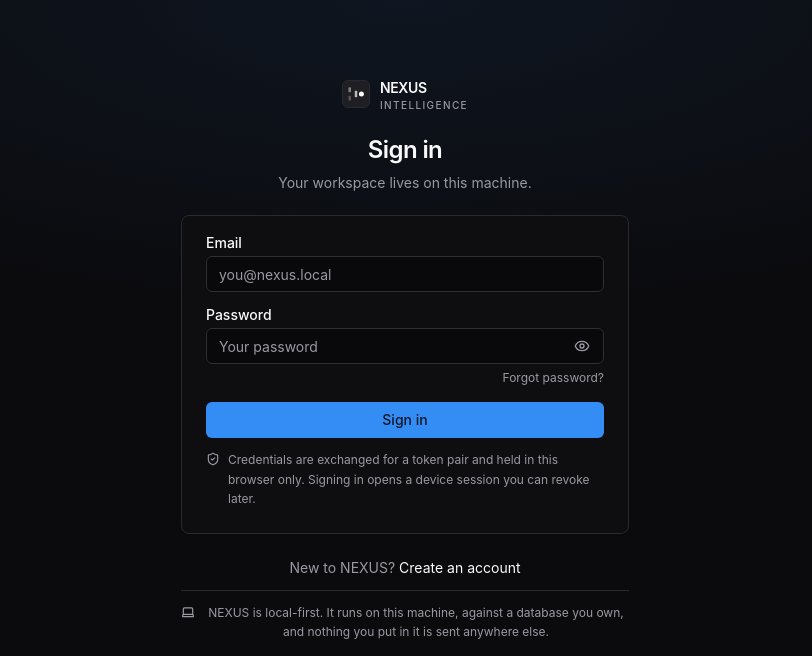
Scenario: LoginPage › disables and announces the submit while the request is in flight
Expected: the button "Sign in" is enabled, [206, 402, 604, 438]
Type "ada@nexus.local" into the field labelled "Email" at [405, 274], box [206, 256, 604, 292]
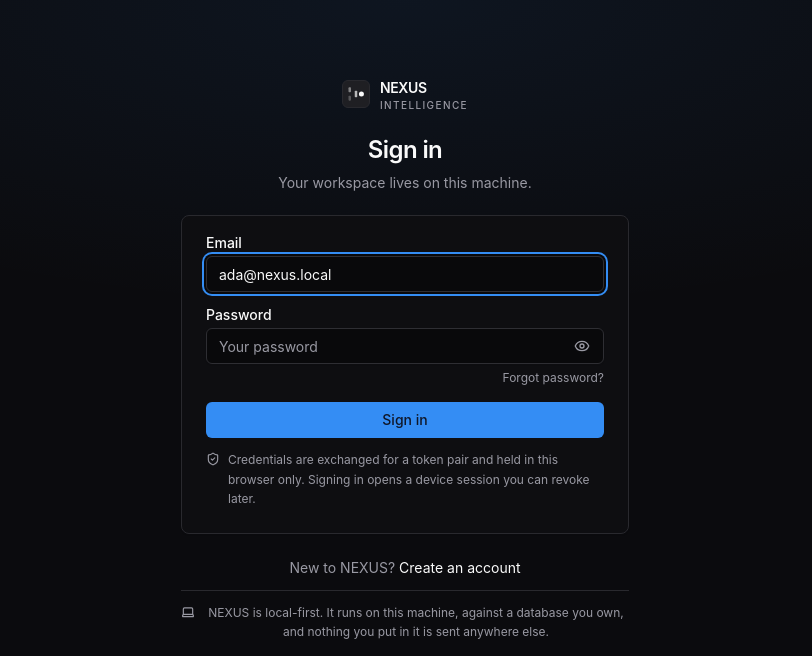
Type "correct-horse-battery" into the password field labelled "Password" at [405, 346], box [206, 328, 604, 364]
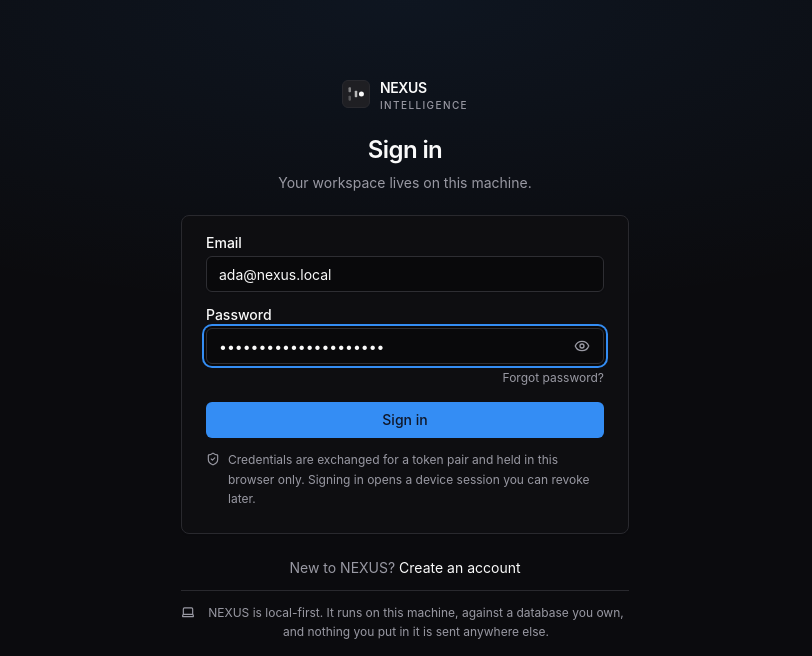
Click the button "Sign in" at [405, 420], box [206, 402, 604, 438]
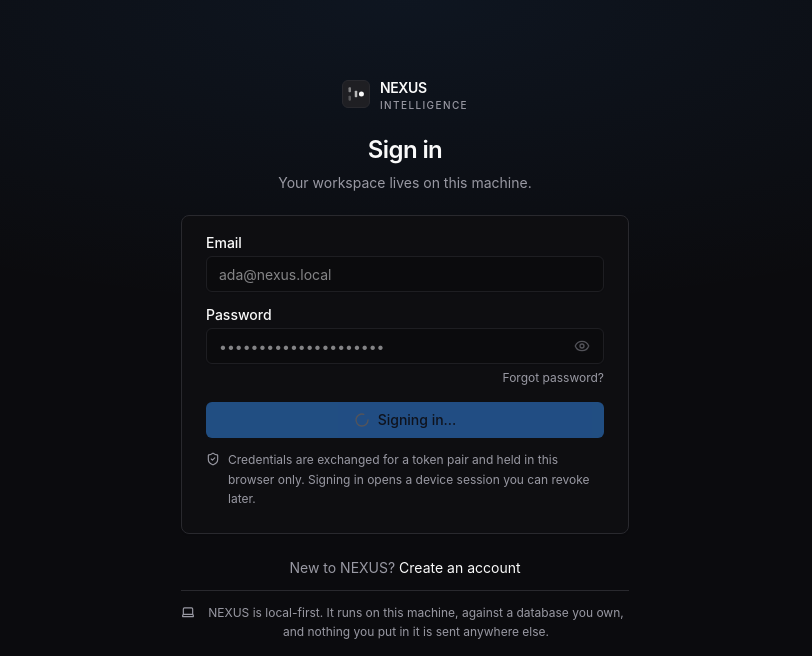
Expected: the button "Signing in…" is disabled, [206, 402, 604, 438]
Expected: the field labelled "Email" is disabled, [206, 256, 604, 292]
Expected: the password field labelled "Password" is disabled, [206, 328, 604, 364]
